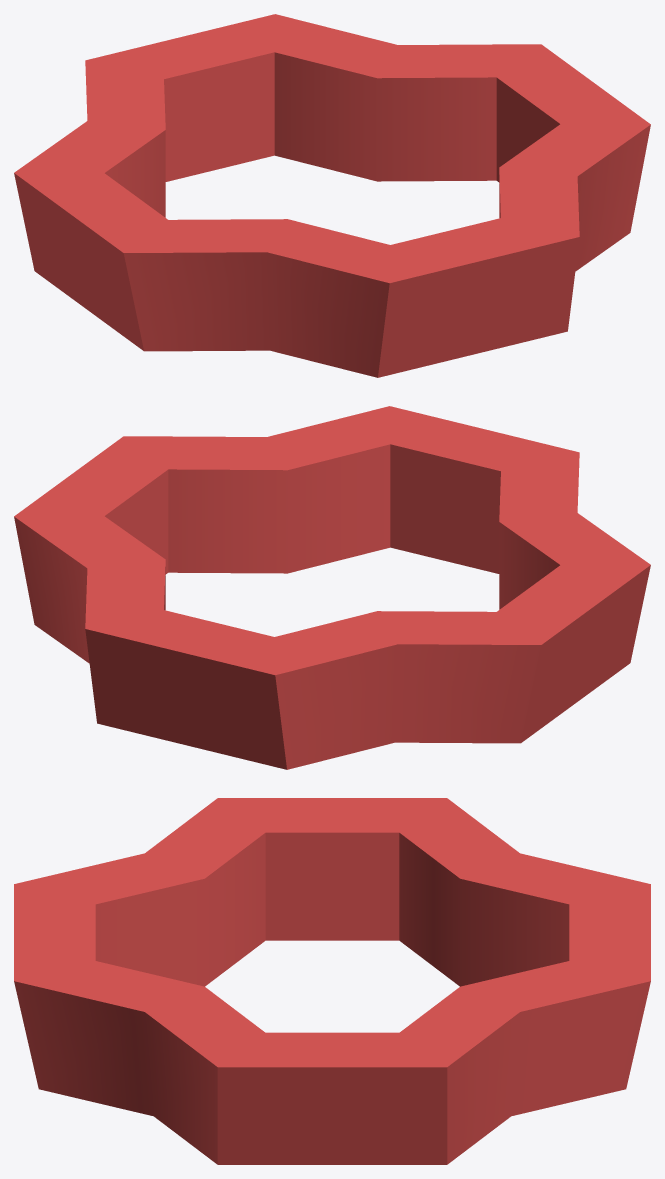
The model's file is paprikaSlice.obj.
3 renders of one model, top to bottom at view 1: azimuth 30°, elevation 25°; view 2: azimuth 150°, elevation 25°; view 3: azimuth 270°, elevation 25°, orthographic. The views are drawn at different scales.
Parts seen in each view (by area): view 1: paprikaSlice; view 2: paprikaSlice; view 3: paprikaSlice.
Part boxes in pixels (x1=…): paprikaSlice: x1=14, y1=14, x2=650, y2=377; paprikaSlice: x1=14, y1=406, x2=650, y2=769; paprikaSlice: x1=14, y1=798, x2=650, y2=1164.
Bounding box in the file's own units: 0.1602 × 0.03 × 0.1602.
